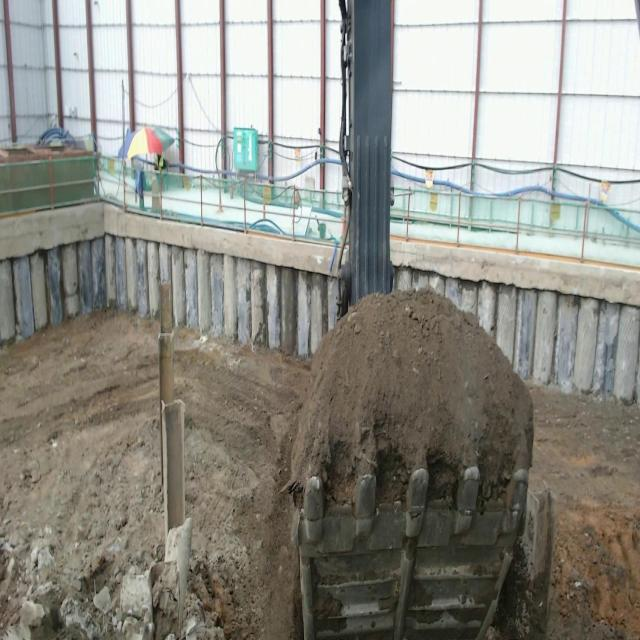cement: (0, 202, 332, 274), (391, 238, 640, 306)
red-sand: (174, 290, 640, 639), (0, 311, 163, 623)
rocks: (3, 546, 186, 639)
